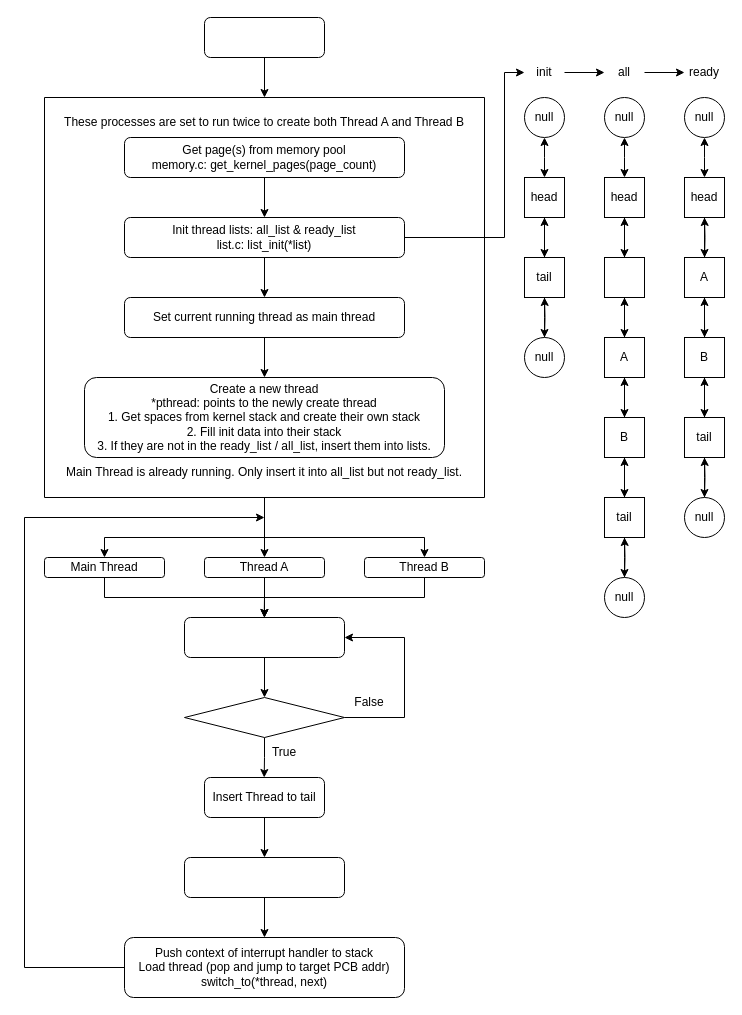
The diagram is 742 pixels wide and 1015 high, and some of its shapes have lost their labels. Here are the shapes that lost their labels. From the top down, the centre of each, then its label:
At point 264,37: "Kernel inits Intr_timer_handler".
At point 624,277: "Main".
At point 264,637: "Print Thread Message".
At point 264,717: "Intr timer == 0".
At point 264,877: "Get a thread from head.".
